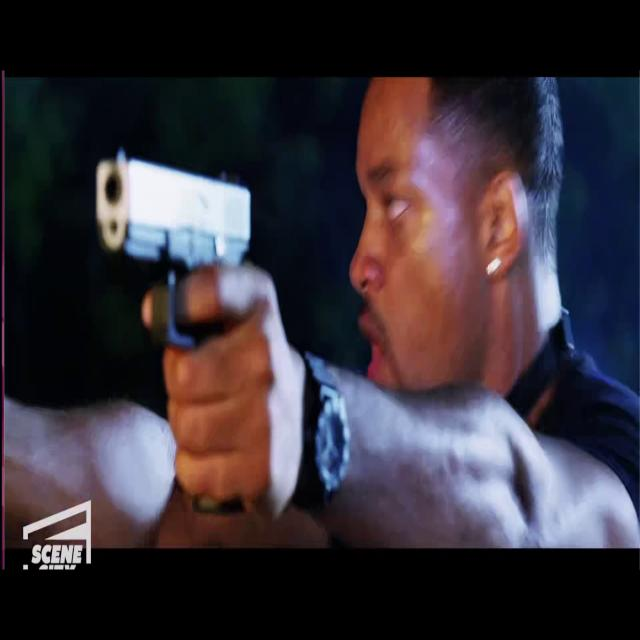weapons: (87, 139, 273, 426)
